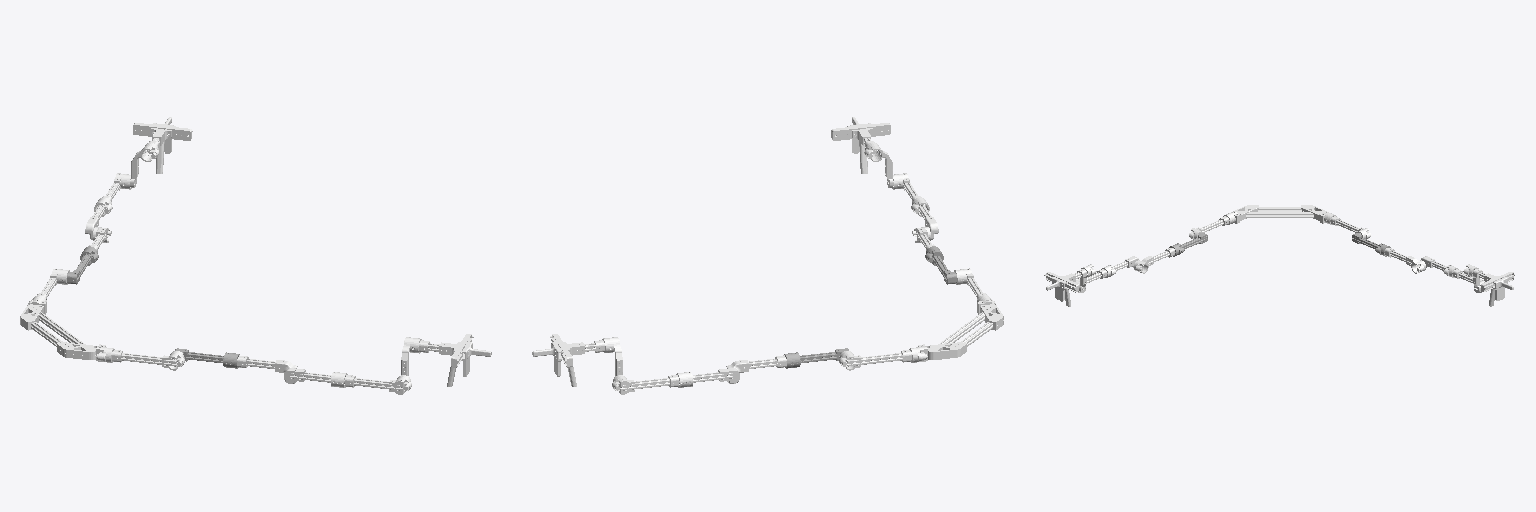
robot.urdf — airexo:
<robot
  name="airexo">
  <link
    name="base_link">
    <inertial>
      <origin
        xyz="0.0452487076550272 4.08159289662447E-05 2.92854896249222E-15"
        rpy="0 0 0" />
      <mass
        value="0.520332798539441" />
      <inertia
        ixx="0.00183677436681144"
        ixy="5.04249301412316E-21"
        ixz="-1.53050085454359E-18"
        iyy="0.000468584337523373"
        iyz="-3.72686805178163E-08"
        izz="0.0022412161142748" />
    </inertial>
    <visual>
      <origin
        xyz="0 0 0"
        rpy="0 0 0" />
      <geometry>
        <mesh
          filename="meshes/base_link.obj" />
      </geometry>
      <material
        name="">
        <color
          rgba="1 1 1 1" />
      </material>
    </visual>
    <collision>
      <origin
        xyz="0 0 0"
        rpy="0 0 0" />
      <geometry>
        <mesh
          filename="meshes/base_link.obj" />
      </geometry>
    </collision>
  </link>
  <link
    name="L1">
    <inertial>
      <origin
        xyz="-0.0063963952709717 -1.5515452953394E-09 -0.116903714213069"
        rpy="0 0 0" />
      <mass
        value="0.098087234411131" />
      <inertia
        ixx="0.000159372788158293"
        ixy="-3.72743176764314E-12"
        ixz="-3.43716909947373E-06"
        iyy="0.000157819875944741"
        iyz="-7.27737995086022E-12"
        izz="2.65259724028253E-05" />
    </inertial>
    <visual>
      <origin
        xyz="0 0 0"
        rpy="0 0 0" />
      <geometry>
        <mesh
          filename="meshes/L1.obj" />
      </geometry>
      <material
        name="">
        <color
          rgba="1 1 1 1" />
      </material>
    </visual>
    <collision>
      <origin
        xyz="0 0 0"
        rpy="0 0 0" />
      <geometry>
        <mesh
          filename="meshes/L1.obj" />
      </geometry>
    </collision>
  </link>
  <joint
    name="left_joint1"
    type="revolute">
    <origin
      xyz="0.109601551083906 0.244601551083923 0"
      rpy="-1.57079632679489 0 2.35619449019234" />
    <parent
      link="base_link" />
    <child
      link="L1" />
    <axis
      xyz="0 0 1" />
    <limit
      lower="0"
      upper="0"
      effort="0"
      velocity="0" />
  </joint>
  <link
    name="L2">
    <inertial>
      <origin
        xyz="0.0865759590055979 -2.81216608428411E-09 0.0186186838773504"
        rpy="0 0 0" />
      <mass
        value="0.0934596545824907" />
      <inertia
        ixx="2.5090582636752E-05"
        ixy="4.71786034627682E-12"
        ixz="-2.0777225944809E-06"
        iyy="0.000115618934339504"
        iyz="9.31258053615557E-12"
        izz="0.000117051629081509" />
    </inertial>
    <visual>
      <origin
        xyz="0 0 0"
        rpy="0 0 0" />
      <geometry>
        <mesh
          filename="meshes/L2.obj" />
      </geometry>
      <material
        name="">
        <color
          rgba="0.752941176470588 0.752941176470588 0.752941176470588 1" />
      </material>
    </visual>
    <collision>
      <origin
        xyz="0 0 0"
        rpy="0 0 0" />
      <geometry>
        <mesh
          filename="meshes/L2.obj" />
      </geometry>
    </collision>
  </link>
  <joint
    name="left_joint2"
    type="revolute">
    <origin
      xyz="-0.042 0 -0.21"
      rpy="3.1416 1.5708 0" />
    <parent
      link="L1" />
    <child
      link="L2" />
    <axis
      xyz="0 0 -1" />
    <limit
      lower="0"
      upper="0"
      effort="0"
      velocity="0" />
  </joint>
  <link
    name="L3">
    <inertial>
      <origin
        xyz="-0.00582933974923661 -0.00508234737073888 -0.110695451040566"
        rpy="0 0 0" />
      <mass
        value="0.109024564590523" />
      <inertia
        ixx="0.000109039968694576"
        ixy="-3.25831705939487E-06"
        ixz="-6.27816005953874E-06"
        iyy="9.99608985448683E-05"
        iyz="-8.47081934482583E-06"
        izz="3.42505422951305E-05" />
    </inertial>
    <visual>
      <origin
        xyz="0 0 0"
        rpy="0 0 0" />
      <geometry>
        <mesh
          filename="meshes/L3.obj" />
      </geometry>
      <material
        name="">
        <color
          rgba="1 1 1 1" />
      </material>
    </visual>
    <collision>
      <origin
        xyz="0 0 0"
        rpy="0 0 0" />
      <geometry>
        <mesh
          filename="meshes/L3.obj" />
      </geometry>
    </collision>
  </link>
  <joint
    name="left_joint3"
    type="revolute">
    <origin
      xyz="0.205000000000001 0 0.022999999999999"
      rpy="0 -1.57 0" />
    <parent
      link="L2" />
    <child
      link="L3" />
    <axis
      xyz="0 0 1" />
    <limit
      lower="0"
      upper="0"
      effort="0"
      velocity="0" />
  </joint>
  <link
    name="L4">
    <inertial>
      <origin
        xyz="-0.073172160273328 -0.017268843967896 -0.0151104097470313"
        rpy="0 0 0" />
      <mass
        value="0.110593093369985" />
      <inertia
        ixx="3.1883465683027E-05"
        ixy="-3.67151839013352E-06"
        ixz="9.31651103968059E-07"
        iyy="0.000104042250565711"
        iyz="-1.99286866179457E-06"
        izz="0.000112444733749653" />
    </inertial>
    <visual>
      <origin
        xyz="0 0 0"
        rpy="0 0 0" />
      <geometry>
        <mesh
          filename="meshes/L4.obj" />
      </geometry>
      <material
        name="">
        <color
          rgba="1 1 1 1" />
      </material>
    </visual>
    <collision>
      <origin
        xyz="0 0 0"
        rpy="0 0 0" />
      <geometry>
        <mesh
          filename="meshes/L4.obj" />
      </geometry>
    </collision>
  </link>
  <joint
    name="left_joint4"
    type="revolute">
    <origin
      xyz="-0.037 -0.02 -0.19"
      rpy="3.14 -1.5708 0" />
    <parent
      link="L3" />
    <child
      link="L4" />
    <axis
      xyz="0 0 1" />
    <limit
      lower="0"
      upper="0"
      effort="0"
      velocity="0" />
  </joint>
  <link
    name="L5">
    <inertial>
      <origin
        xyz="0.0066297740117896 1.60814885932785E-09 -0.106260647262765"
        rpy="0 0 0" />
      <mass
        value="0.0946344055188571" />
      <inertia
        ixx="0.000124669958358273"
        ixy="-3.72743175844531E-12"
        ixz="3.43716909947408E-06"
        iyy="0.000123117046144721"
        iyz="7.27737861747563E-12"
        izz="2.62344377964654E-05" />
    </inertial>
    <visual>
      <origin
        xyz="0 0 0"
        rpy="0 0 0" />
      <geometry>
        <mesh
          filename="meshes/L5.obj" />
      </geometry>
      <material
        name="">
        <color
          rgba="1 1 1 1" />
      </material>
    </visual>
    <collision>
      <origin
        xyz="0 0 0"
        rpy="0 0 0" />
      <geometry>
        <mesh
          filename="meshes/L5.obj" />
      </geometry>
    </collision>
  </link>
  <joint
    name="left_joint5"
    type="revolute">
    <origin
      xyz="-0.195 -0.0200000000000092 -0.017999999999997"
      rpy="-1.57 -1.57 -1.57" />
    <parent
      link="L4" />
    <child
      link="L5" />
    <axis
      xyz="0 0 1" />
    <limit
      lower="0"
      upper="0"
      effort="0"
      velocity="0" />
  </joint>
  <link
    name="L6">
    <inertial>
      <origin
        xyz="-0.00635824446323552 0.0689304054161675 -0.0272114386387042"
        rpy="0 0 0" />
      <mass
        value="0.0861577433675515" />
      <inertia
        ixx="0.000102772131826408"
        ixy="9.37240075961671E-06"
        ixz="-1.0212439621005E-05"
        iyy="3.77291653459946E-05"
        iyz="2.07043543003199E-05"
        izz="9.34120417799856E-05" />
    </inertial>
    <visual>
      <origin
        xyz="0 0 0"
        rpy="0 0 0" />
      <geometry>
        <mesh
          filename="meshes/L6.obj" />
      </geometry>
      <material
        name="">
        <color
          rgba="1 1 1 1" />
      </material>
    </visual>
    <collision>
      <origin
        xyz="0 0 0"
        rpy="0 0 0" />
      <geometry>
        <mesh
          filename="meshes/L6.obj" />
      </geometry>
    </collision>
  </link>
  <joint
    name="left_joint6"
    type="revolute">
    <origin
      xyz="0.0419999999999968 0 -0.190000000000001"
      rpy="0 -1.5707963267949 0" />
    <parent
      link="L5" />
    <child
      link="L6" />
    <axis
      xyz="0 0 1" />
    <limit
      lower="0"
      upper="0"
      effort="0"
      velocity="0" />
  </joint>
  <link
    name="L7">
    <inertial>
      <origin
        xyz="-3.63905949818388E-08 -0.0146045080903285 -0.107936229358862"
        rpy="0 0 0" />
      <mass
        value="0.229175051356706" />
      <inertia
        ixx="0.000233816400821421"
        ixy="-3.1371024036952E-10"
        ixz="-9.04625099533581E-11"
        iyy="0.000415342577386501"
        iyz="6.04603044528669E-06"
        izz="0.0005774292230055" />
    </inertial>
    <visual>
      <origin
        xyz="0 0 0"
        rpy="0 0 0" />
      <geometry>
        <mesh
          filename="meshes/L7.obj" />
      </geometry>
      <material
        name="">
        <color
          rgba="1 1 1 1" />
      </material>
    </visual>
    <collision>
      <origin
        xyz="0 0 0"
        rpy="0 0 0" />
      <geometry>
        <mesh
          filename="meshes/L7.obj" />
      </geometry>
    </collision>
  </link>
  <joint
    name="left_joint7"
    type="revolute">
    <origin
      xyz="-0.0399999999999965 0.110000000000008 -0.0579999999999996"
      rpy="0 1.5707963267949 0" />
    <parent
      link="L6" />
    <child
      link="L7" />
    <axis
      xyz="0 0 1" />
    <limit
      lower="0"
      upper="0"
      effort="0"
      velocity="0" />
  </joint>
  <link
    name="left_gripper_finger1">
    <inertial>
      <origin
        xyz="-0.00675723568499809 -0.0142134328151464 0.0298062891646284"
        rpy="0 0 0" />
      <mass
        value="0.0299322502730939" />
      <inertia
        ixx="3.69189890737347E-05"
        ixy="3.96674690314223E-06"
        ixz="-1.47009227723694E-07"
        iyy="2.46066635907428E-05"
        iyz="6.03455868750641E-06"
        izz="2.06548032566497E-05" />
    </inertial>
    <visual>
      <origin
        xyz="0 0 0"
        rpy="0 0 0" />
      <geometry>
        <mesh
          filename="meshes/LF1.obj" />
      </geometry>
      <material
        name="">
        <color
          rgba="1 1 1 1" />
      </material>
    </visual>
    <collision>
      <origin
        xyz="0 0 0"
        rpy="0 0 0" />
      <geometry>
        <mesh
          filename="meshes/LF1.obj" />
      </geometry>
    </collision>
  </link>
  <joint
    name="left_gripper_finger1"
    type="prismatic">
    <origin
      xyz="-0.0199999999999956 0.0164999999999835 -0.189000000000003"
      rpy="-1.57079632679489 0 3.14159265358979" />
    <parent
      link="L7" />
    <child
      link="left_gripper_finger1" />
    <axis
      xyz="-1 0 0" />
    <limit
      lower="0"
      upper="0"
      effort="0"
      velocity="0" />
  </joint>
  <link
    name="left_gripper_finger2">
    <inertial>
      <origin
        xyz="-0.0332427197047274 -0.0142133932134398 0.030258948290808"
        rpy="0 0 0" />
      <mass
        value="0.029932365698076" />
      <inertia
        ixx="3.65522546328813E-05"
        ixy="-3.96675470079069E-06"
        ixz="3.40214390720155E-07"
        iyy="2.42399516001419E-05"
        iyz="6.34951410476434E-06"
        izz="2.06548183671532E-05" />
    </inertial>
    <visual>
      <origin
        xyz="0 0 0"
        rpy="0 0 0" />
      <geometry>
        <mesh
          filename="meshes/LF2.obj" />
      </geometry>
      <material
        name="">
        <color
          rgba="1 1 1 1" />
      </material>
    </visual>
    <collision>
      <origin
        xyz="0 0 0"
        rpy="0 0 0" />
      <geometry>
        <mesh
          filename="meshes/LF2.obj" />
      </geometry>
    </collision>
  </link>
  <joint
    name="left_gripper_finger2"
    type="prismatic">
    <origin
      xyz="-0.0199999999999956 0.0164999999999835 -0.189000000000003"
      rpy="-1.57079632679489 0 3.14159265358979" />
    <parent
      link="L7" />
    <child
      link="left_gripper_finger2" />
    <axis
      xyz="-1 0 0" />
    <limit
      lower="0"
      upper="0"
      effort="0"
      velocity="0" />
  </joint>
  <link
    name="R1">
    <inertial>
      <origin
        xyz="0 0 0"
        rpy="0 0 0" />
      <mass
        value="0" />
      <inertia
        ixx="0"
        ixy="0"
        ixz="0"
        iyy="0"
        iyz="0"
        izz="0" />
    </inertial>
    <visual>
      <origin
        xyz="0 0 0"
        rpy="0 0 0" />
      <geometry>
        <mesh
          filename="meshes/R1.obj" />
      </geometry>
      <material
        name="">
        <color
          rgba="1 1 1 1" />
      </material>
    </visual>
    <collision>
      <origin
        xyz="0 0 0"
        rpy="0 0 0" />
      <geometry>
        <mesh
          filename="meshes/R1.obj" />
      </geometry>
    </collision>
  </link>
  <joint
    name="right_joint1"
    type="revolute">
    <origin
      xyz="0.109601551083907 -0.244601551083923 0"
      rpy="1.5707963267949 0 -2.35619449019234" />
    <parent
      link="base_link" />
    <child
      link="R1" />
    <axis
      xyz="0 0 1" />
    <limit
      lower="0"
      upper="0"
      effort="0"
      velocity="0" />
  </joint>
  <link
    name="R2">
    <inertial>
      <origin
        xyz="2.8122E-09 0.086576 0.018619"
        rpy="0 0 0" />
      <mass
        value="0.09346" />
      <inertia
        ixx="0.00011562"
        ixy="-4.7179E-12"
        ixz="-9.3126E-12"
        iyy="2.5091E-05"
        iyz="-2.0777E-06"
        izz="0.00011705" />
    </inertial>
    <visual>
      <origin
        xyz="0 0 0"
        rpy="0 0 0" />
      <geometry>
        <mesh
          filename="meshes/R2.obj" />
      </geometry>
      <material
        name="">
        <color
          rgba="0.75294 0.75294 0.75294 1" />
      </material>
    </visual>
    <collision>
      <origin
        xyz="0 0 0"
        rpy="0 0 0" />
      <geometry>
        <mesh
          filename="meshes/R2.obj" />
      </geometry>
    </collision>
  </link>
  <joint
    name="right_joint2"
    type="revolute">
    <origin
      xyz="-0.042 0 -0.21"
      rpy="-1.5708 0 1.5708" />
    <parent
      link="R1" />
    <child
      link="R2" />
    <axis
      xyz="0 0 -1" />
    <limit
      lower="0"
      upper="0"
      effort="0"
      velocity="0" />
  </joint>
  <link
    name="R3">
    <inertial>
      <origin
        xyz="-0.00582933755278403 0.00508234737744992 -0.110695440354703"
        rpy="0 0 0" />
      <mass
        value="0.109024557359642" />
      <inertia
        ixx="0.00010903996231036"
        ixy="3.25833140983821E-06"
        ixz="-6.27816463100872E-06"
        iyy="9.9960886562311E-05"
        iyz="8.47081767765234E-06"
        izz="3.42505310242744E-05" />
    </inertial>
    <visual>
      <origin
        xyz="0 0 0"
        rpy="0 0 0" />
      <geometry>
        <mesh
          filename="meshes/R3.obj" />
      </geometry>
      <material
        name="">
        <color
          rgba="1 1 1 1" />
      </material>
    </visual>
    <collision>
      <origin
        xyz="0 0 0"
        rpy="0 0 0" />
      <geometry>
        <mesh
          filename="meshes/R3.obj" />
      </geometry>
    </collision>
  </link>
  <joint
    name="right_joint3"
    type="revolute">
    <origin
      xyz="0 0.205 0.0229999999999986"
      rpy="1.57079632679481 -1.5707963267949 0" />
    <parent
      link="R2" />
    <child
      link="R3" />
    <axis
      xyz="0 0 1" />
    <limit
      lower="0"
      upper="0"
      effort="0"
      velocity="0" />
  </joint>
  <link
    name="R4">
    <inertial>
      <origin
        xyz="0.0731721799922957 0.0172688486184369 0.0151104102921951"
        rpy="0 0 0" />
      <mass
        value="0.110593062852945" />
      <inertia
        ixx="3.1883463583487E-05"
        ixy="-3.67153073687972E-06"
        ixz="9.31649960714608E-07"
        iyy="0.00010404224677379"
        iyz="-1.99285568724138E-06"
        izz="0.000112444728023625" />
    </inertial>
    <visual>
      <origin
        xyz="0 0 0"
        rpy="0 0 0" />
      <geometry>
        <mesh
          filename="meshes/R4.obj" />
      </geometry>
      <material
        name="">
        <color
          rgba="1 1 1 1" />
      </material>
    </visual>
    <collision>
      <origin
        xyz="0 0 0"
        rpy="0 0 0" />
      <geometry>
        <mesh
          filename="meshes/R4.obj" />
      </geometry>
    </collision>
  </link>
  <joint
    name="right_joint4"
    type="revolute">
    <origin
      xyz="-0.037 0.02 -0.19"
      rpy="3.1416 1.5708 0" />
    <parent
      link="R3" />
    <child
      link="R4" />
    <axis
      xyz="0 0 -1" />
    <limit
      lower="0"
      upper="0"
      effort="0"
      velocity="0" />
  </joint>
  <link
    name="R5">
    <inertial>
      <origin
        xyz="0.00662977401179365 1.60813599363219E-09 -0.106260647262767"
        rpy="0 0 0" />
      <mass
        value="0.0946344055188567" />
      <inertia
        ixx="0.000124669958358272"
        ixy="-3.72743164403169E-12"
        ixz="3.43716909947426E-06"
        iyy="0.00012311704614472"
        iyz="7.27737086740429E-12"
        izz="2.62344377964653E-05" />
    </inertial>
    <visual>
      <origin
        xyz="0 0 0"
        rpy="0 0 0" />
      <geometry>
        <mesh
          filename="meshes/R5.obj" />
      </geometry>
      <material
        name="">
        <color
          rgba="1 1 1 1" />
      </material>
    </visual>
    <collision>
      <origin
        xyz="0 0 0"
        rpy="0 0 0" />
      <geometry>
        <mesh
          filename="meshes/R5.obj" />
      </geometry>
    </collision>
  </link>
  <joint
    name="right_joint5"
    type="revolute">
    <origin
      xyz="0.194999999999998 0.0199999999999951 0.0180000000000012"
      rpy="1.6052859166587 1.57079631189374 -1.53630673693109" />
    <parent
      link="R4" />
    <child
      link="R5" />
    <axis
      xyz="0 0 1" />
    <limit
      lower="0"
      upper="0"
      effort="0"
      velocity="0" />
  </joint>
  <link
    name="R6">
    <inertial>
      <origin
        xyz="-0.00635822279867648 -0.103930168453319 -0.0272113878398762"
        rpy="0 0 0" />
      <mass
        value="0.0861571450761335" />
      <inertia
        ixx="0.000102772128030952"
        ixy="-9.37241968440688E-06"
        ixz="-1.02124433236302E-05"
        iyy="3.77292504199305E-05"
        iyz="-2.07044255384543E-05"
        izz="9.34119711680437E-05" />
    </inertial>
    <visual>
      <origin
        xyz="0 0 0"
        rpy="0 0 0" />
      <geometry>
        <mesh
          filename="meshes/R6.obj" />
      </geometry>
      <material
        name="">
        <color
          rgba="1 1 1 1" />
      </material>
    </visual>
    <collision>
      <origin
        xyz="0 0 0"
        rpy="0 0 0" />
      <geometry>
        <mesh
          filename="meshes/R6.obj" />
      </geometry>
    </collision>
  </link>
  <joint
    name="right_joint6"
    type="revolute">
    <origin
      xyz="0.0420000000000109 0 -0.190000000000004"
      rpy="0 1.5707963267949 0" />
    <parent
      link="R5" />
    <child
      link="R6" />
    <axis
      xyz="0 0 -1" />
    <limit
      lower="0"
      upper="0"
      effort="0"
      velocity="0" />
  </joint>
  <link
    name="R7">
    <inertial>
      <origin
        xyz="3.63906027534E-08 0.014604508090263 -0.107936229358866"
        rpy="0 0 0" />
      <mass
        value="0.229175051356708" />
      <inertia
        ixx="0.000233816400821424"
        ixy="-3.13710224020721E-10"
        ixz="9.04625087878408E-11"
        iyy="0.000415342577386499"
        iyz="-6.04603044526523E-06"
        izz="0.000577429223005504" />
    </inertial>
    <visual>
      <origin
        xyz="0 0 0"
        rpy="0 0 0" />
      <geometry>
        <mesh
          filename="meshes/R7.obj" />
      </geometry>
      <material
        name="">
        <color
          rgba="1 1 1 1" />
      </material>
    </visual>
    <collision>
      <origin
        xyz="0 0 0"
        rpy="0 0 0" />
      <geometry>
        <mesh
          filename="meshes/R7.obj" />
      </geometry>
    </collision>
  </link>
  <joint
    name="right_joint7"
    type="revolute">
    <origin
      xyz="0.039999999999996 -0.109999999999958 0.0579999999999793"
      rpy="0 -1.5707963267949 0" />
    <parent
      link="R6" />
    <child
      link="R7" />
    <axis
      xyz="0 0 1" />
    <limit
      lower="0"
      upper="0"
      effort="0"
      velocity="0" />
  </joint>
  <link
    name="right_gripper_finger1">
    <inertial>
      <origin
        xyz="-0.00675723568499398 -0.0142134328151422 0.0298062891646398"
        rpy="0 0 0" />
      <mass
        value="0.029932250273094" />
      <inertia
        ixx="3.69189890737345E-05"
        ixy="3.96674690314262E-06"
        ixz="-1.47009227725744E-07"
        iyy="2.46066635907442E-05"
        iyz="6.03455868750575E-06"
        izz="2.06548032566481E-05" />
    </inertial>
    <visual>
      <origin
        xyz="0 0 0"
        rpy="0 0 0" />
      <geometry>
        <mesh
          filename="meshes/RF1.obj" />
      </geometry>
      <material
        name="">
        <color
          rgba="1 1 1 1" />
      </material>
    </visual>
    <collision>
      <origin
        xyz="0 0 0"
        rpy="0 0 0" />
      <geometry>
        <mesh
          filename="meshes/RF1.obj" />
      </geometry>
    </collision>
  </link>
  <joint
    name="right_gripper_finger1"
    type="prismatic">
    <origin
      xyz="0.0200000000000005 -0.0165000000000805 -0.189000000000002"
      rpy="-1.57079632679492 0 0" />
    <parent
      link="R7" />
    <child
      link="right_gripper_finger1" />
    <axis
      xyz="1 0 0" />
    <limit
      lower="0"
      upper="0"
      effort="0"
      velocity="0" />
  </joint>
  <link
    name="right_gripper_finger2">
    <inertial>
      <origin
        xyz="-0.0332427197047234 -0.0142133932134356 0.030258948290822"
        rpy="0 0 0" />
      <mass
        value="0.0299323656980758" />
      <inertia
        ixx="3.6552254632881E-05"
        ixy="-3.96675470079006E-06"
        ixz="3.40214390719059E-07"
        iyy="2.42399516001434E-05"
        iyz="6.34951410476458E-06"
        izz="2.06548183671514E-05" />
    </inertial>
    <visual>
      <origin
        xyz="0 0 0"
        rpy="0 0 0" />
      <geometry>
        <mesh
          filename="meshes/RF2.obj" />
      </geometry>
      <material
        name="">
        <color
          rgba="1 1 1 1" />
      </material>
    </visual>
    <collision>
      <origin
        xyz="0 0 0"
        rpy="0 0 0" />
      <geometry>
        <mesh
          filename="meshes/RF2.obj" />
      </geometry>
    </collision>
  </link>
  <joint
    name="right_gripper_finger2"
    type="prismatic">
    <origin
      xyz="0.0200000000000005 -0.0165000000000805 -0.189000000000002"
      rpy="-1.57079632679492 0 0" />
    <parent
      link="R7" />
    <child
      link="right_gripper_finger2" />
    <axis
      xyz="1 0 0" />
    <limit
      lower="0"
      upper="0"
      effort="0"
      velocity="0" />
  </joint>
</robot>

--- Render facts (derived) ---
The picture shows the robot from 3 angles, left to right: view 1: azimuth 30°, elevation 25°; view 2: azimuth 150°, elevation 25°; view 3: azimuth 270°, elevation 25°; orthographic projection.
Robot: airexo — 19 links, 18 joints (14 revolute, 4 prismatic); root link base_link; default pose: all joints at 0.
Links seen in each view (by area): view 1: base_link, L7, R7, R1, R5, R4, R2, R3; view 2: base_link, R7, L7, L1, L5, L4, L2, L3; view 3: base_link.
Boxes of the visible links, bbox=[...] form: base_link: bbox=[20, 295, 114, 362]; L7: bbox=[133, 123, 192, 173]; R7: bbox=[419, 334, 473, 386]; R1: bbox=[112, 350, 184, 370]; R5: bbox=[344, 375, 411, 394]; R4: bbox=[284, 368, 347, 387]; R2: bbox=[172, 348, 239, 368]; R3: bbox=[237, 355, 297, 383]; base_link: bbox=[909, 295, 1003, 362]; R7: bbox=[831, 123, 890, 173]; L7: bbox=[550, 334, 604, 386]; L1: bbox=[839, 350, 911, 370]; L5: bbox=[612, 375, 679, 394]; L4: bbox=[676, 368, 739, 387]; L2: bbox=[784, 348, 850, 368]; L3: bbox=[726, 355, 786, 383]; base_link: bbox=[1223, 205, 1336, 224].
Bounding box of the posed robot: 1.12 × 2.16 × 0.1803 m (x, y, z).
19 mesh visuals loaded from 19 distinct referenced files (19 OBJ).
